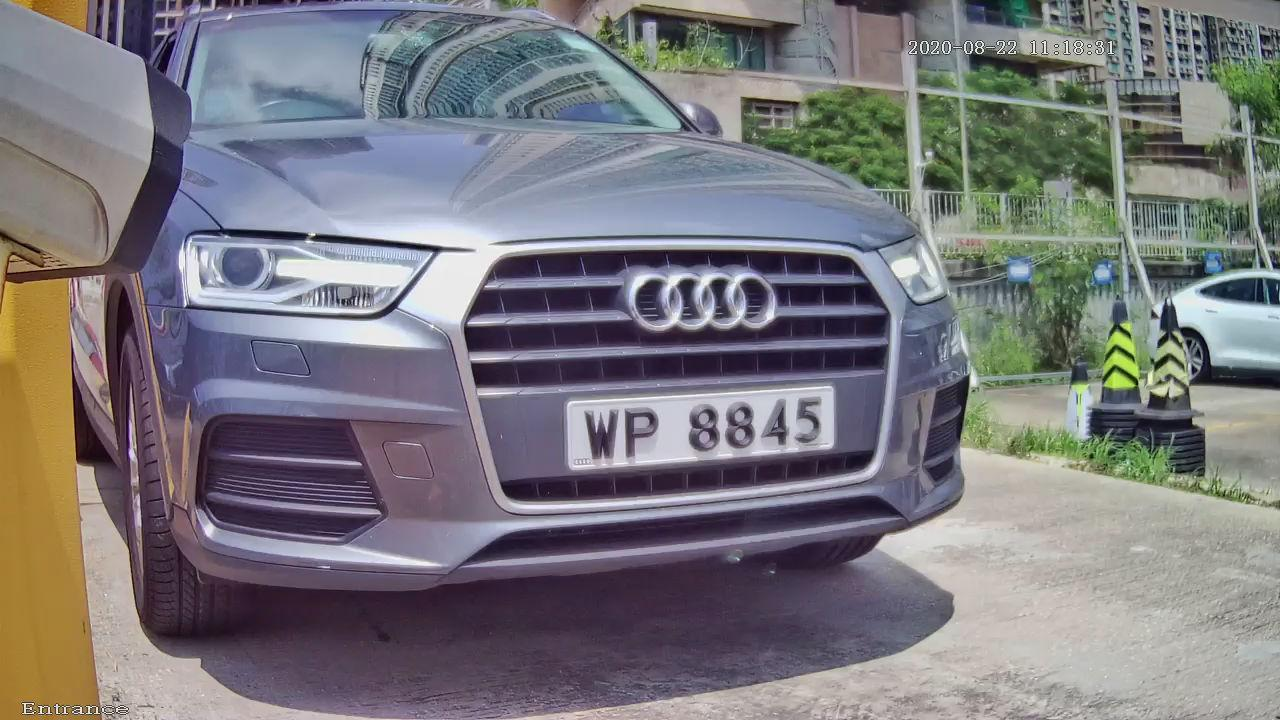License Plate: (536, 359, 876, 488)
